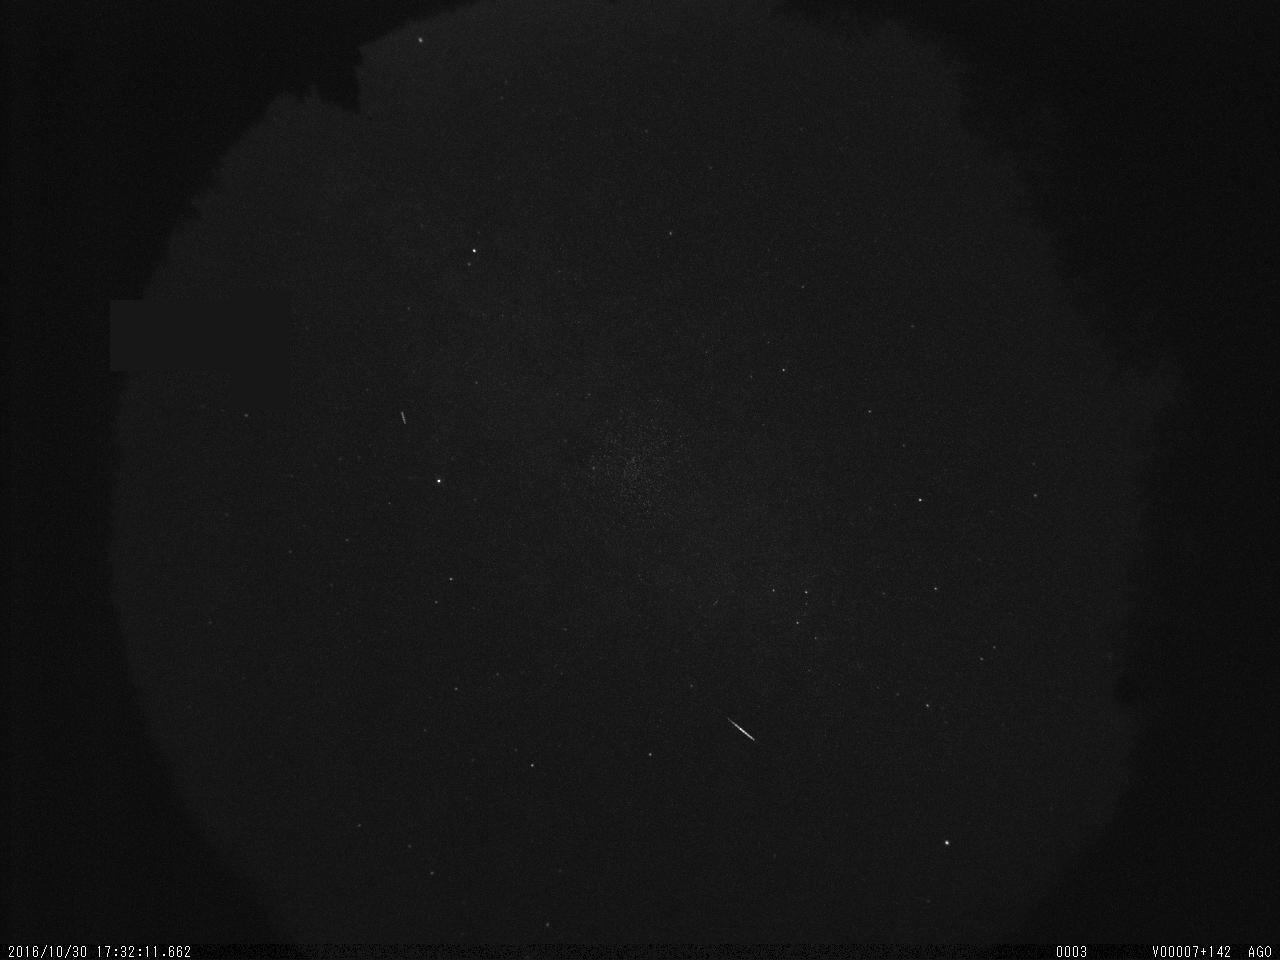meteor: (725, 710, 764, 752)
